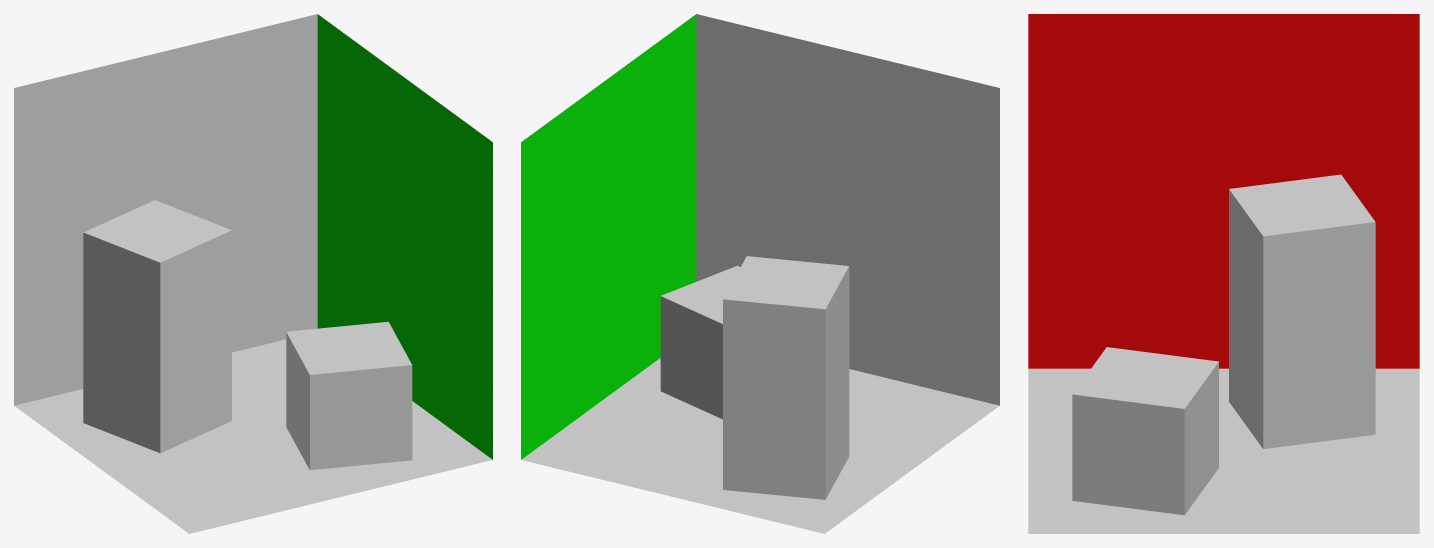
Rendered from cornell_box.gltf.
The picture shows the model from 3 angles, left to right: view 1: azimuth 30°, elevation 25°; view 2: azimuth 150°, elevation 25°; view 3: azimuth 270°, elevation 25°; orthographic projection. The views are drawn at different scales.
Parts seen in each view (by area): view 1: cornell box; view 2: cornell box; view 3: cornell box.
Part boxes in pixels (<box>): cornell box: <box>14,14,492,533</box>; cornell box: <box>521,14,999,533</box>; cornell box: <box>1028,14,1419,533</box>.
Size of the model in its own units: 5 by 5 by 5.
